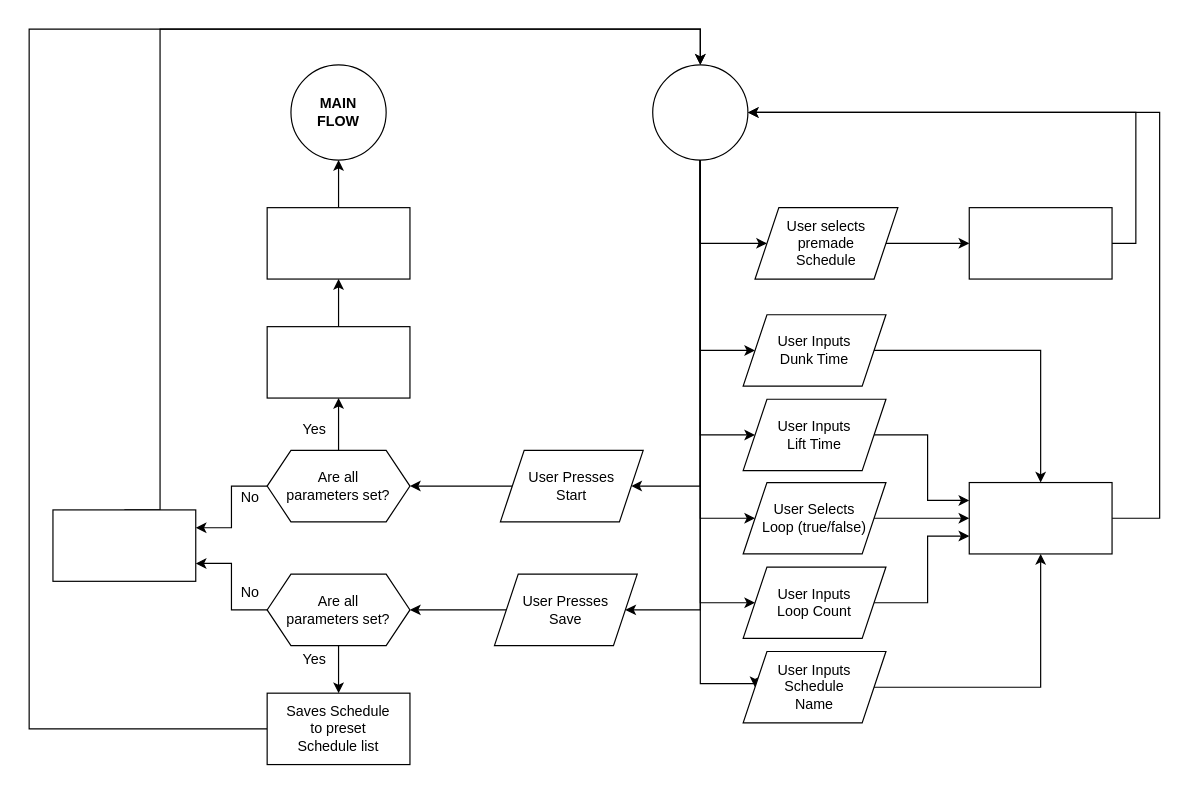
The diagram is 1190 pixels wide and 785 high, and some of its shapes have lost their labels. The box of each missing label's shape, as (x1, y1, x2, y2) in pixels:
Buttons locked other than stop: (266, 206, 410, 279)
Relevant parameters set: (968, 481, 1112, 554)
Relevant Schedule loaded: (968, 206, 1112, 279)
SCHEDULE: (652, 64, 748, 160)
Tag Dunked + Start Time saved: (266, 325, 410, 398)
Unset parameters highlighted to user: (52, 509, 196, 581)
